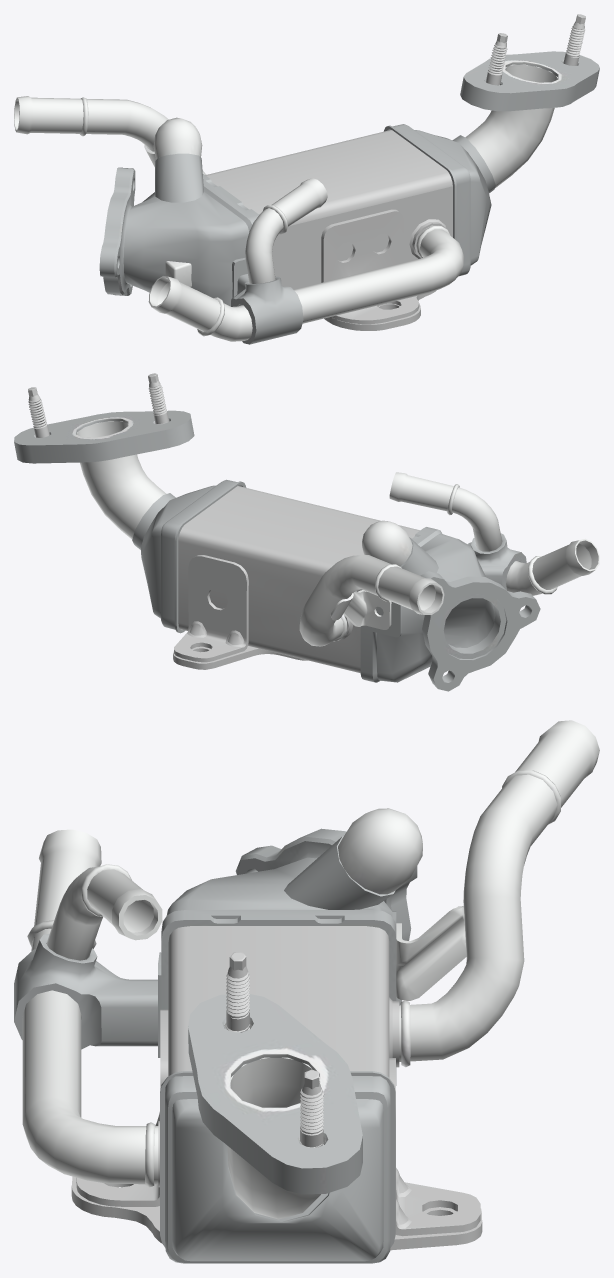
File: product.glb
3 renders of one model, top to bottom at view 1: azimuth 30°, elevation 25°; view 2: azimuth 150°, elevation 25°; view 3: azimuth 270°, elevation 25°, orthographic. The views are drawn at different scales.
Parts seen in each view (by area): view 1: P_product; view 2: P_product; view 3: P_product.
Boxes of the visible parts, <box> form: P_product: <box>14,14,599,344</box>; P_product: <box>14,373,599,691</box>; P_product: <box>14,720,599,1263</box>.
Size of the model in its own units: 0.4044 by 0.1633 by 0.2401.
Materials: 4 (3 with a texture image).
